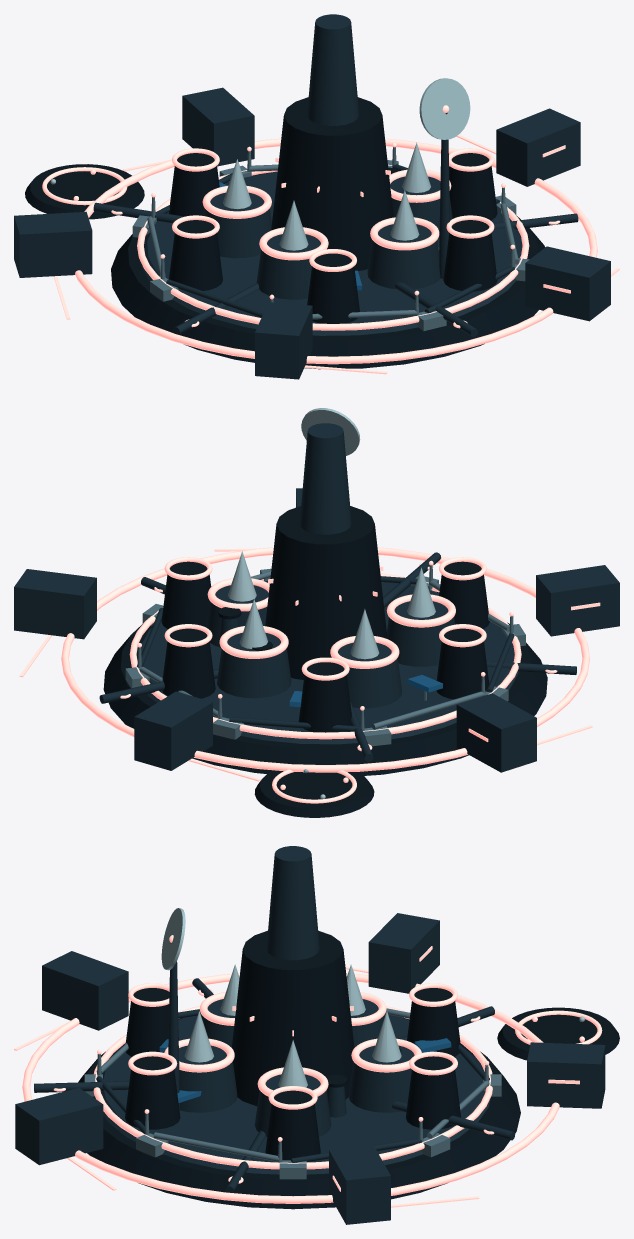
Rendered from missileSilo-stage3.glb.
The picture shows the model from 3 angles, top to bottom: view 1: azimuth 30°, elevation 25°; view 2: azimuth 150°, elevation 25°; view 3: azimuth 270°, elevation 25°; orthographic projection. The views are drawn at different scales.
Visible parts, largest first — view 1: command-bunker, armored-foundation, upper-deck, district-grid-2, industrial-annex-4, industrial-annex-3, industrial-annex-1, strategic-command-spire, industrial-annex-2, industrial-annex-0, landing-pad, detail (×4) (+28 smaller); view 2: command-bunker, armored-foundation, upper-deck, district-grid-2, industrial-annex-3, industrial-annex-0, industrial-annex-1, industrial-annex-2, strategic-command-spire, landing-pad, detail (×4), silo-4 (+22 smaller); view 3: command-bunker, armored-foundation, upper-deck, district-grid-2, industrial-annex-4, industrial-annex-0, strategic-command-spire, industrial-annex-2, industrial-annex-1, industrial-annex-3, landing-pad, perimeter-light (+30 smaller).
Boxes of the visible parts, x1,y1,x2,y2 form: command-bunker: (271, 97, 393, 270); armored-foundation: (111, 171, 545, 369); upper-deck: (139, 171, 527, 335); district-grid-2: (75, 138, 597, 364); industrial-annex-4: (525, 246, 610, 321); industrial-annex-3: (496, 108, 580, 186); industrial-annex-1: (14, 211, 92, 277); strategic-command-spire: (307, 14, 359, 125); industrial-annex-2: (182, 87, 254, 166); industrial-annex-0: (255, 302, 312, 379); landing-pad: (25, 164, 144, 219); detail (×4): (202, 169, 451, 260); command-bunker: (265, 506, 387, 679); armored-foundation: (103, 592, 547, 775); upper-deck: (131, 581, 518, 744); district-grid-2: (61, 547, 589, 772); industrial-annex-3: (14, 569, 96, 639); industrial-annex-0: (536, 565, 619, 636); industrial-annex-1: (456, 693, 536, 772); industrial-annex-2: (134, 691, 212, 770); strategic-command-spire: (299, 423, 351, 534); landing-pad: (254, 762, 374, 817); detail (×4): (207, 578, 455, 668); silo-4: (217, 632, 291, 698); command-bunker: (232, 930, 354, 1106); armored-foundation: (78, 1017, 520, 1209); upper-deck: (95, 1014, 490, 1174); district-grid-2: (22, 973, 559, 1203); industrial-annex-4: (15, 1088, 103, 1165); industrial-annex-0: (42, 951, 128, 1030); strategic-command-spire: (266, 846, 319, 960); industrial-annex-2: (527, 1042, 605, 1108); industrial-annex-1: (368, 913, 439, 993); industrial-annex-3: (329, 1145, 390, 1224); landing-pad: (497, 1007, 619, 1060); perimeter-light: (93, 1006, 492, 1169).
Size of the model in its own units: 14.99 by 6.72 by 14.24.
